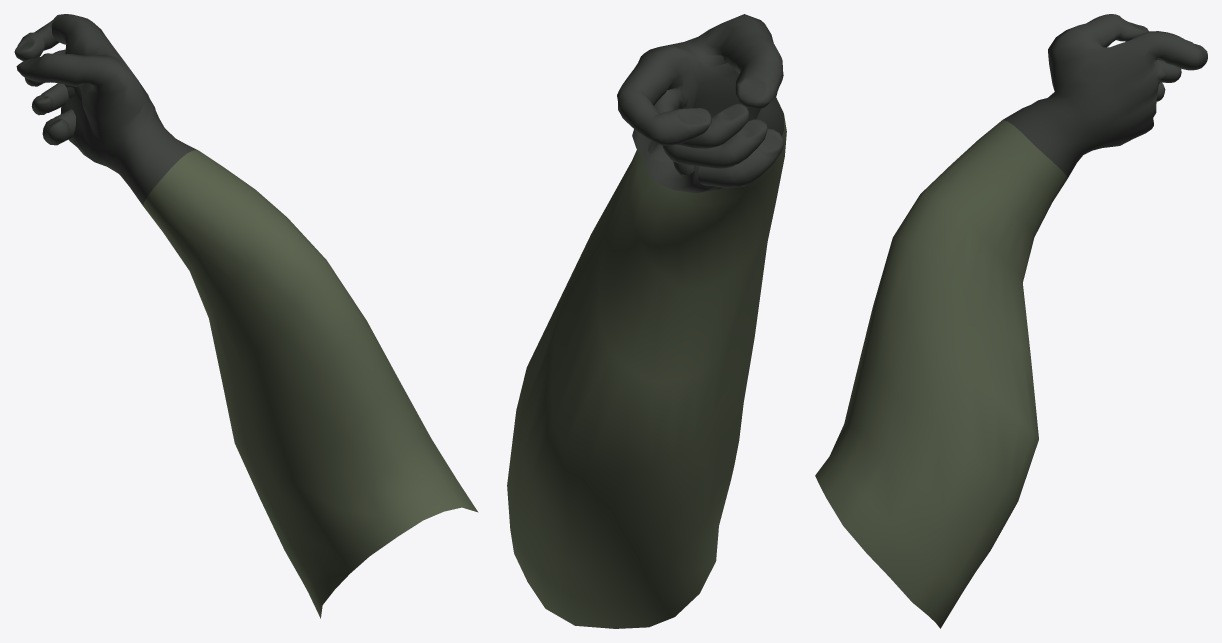
The model's file is gripfit_right.glb.
3 views of the same model, side by side, from view 1: azimuth 30°, elevation 25°; view 2: azimuth 150°, elevation 25°; view 3: azimuth 270°, elevation 25° (orthographic). The views are drawn at different scales.
Visible parts, largest first — view 1: gripfit_right; view 2: gripfit_right; view 3: gripfit_right.
Boxes of the visible parts, x1,y1,x2,y2 form: gripfit_right: (14,14,478,618); gripfit_right: (507,14,786,628); gripfit_right: (815,14,1207,628).
Size of the model in its own units: 0.2381 by 0.4011 by 0.2793.
